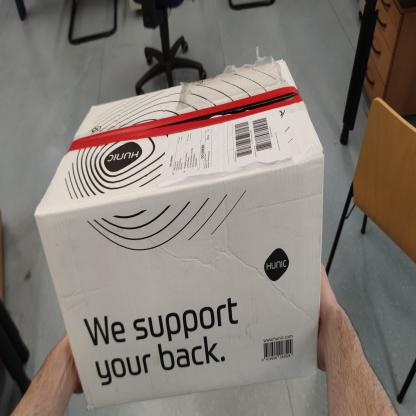box: (26, 50, 348, 405)
